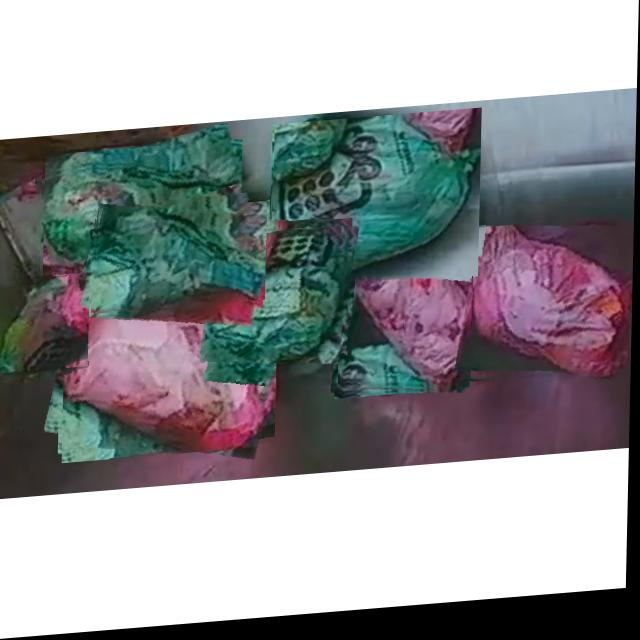general_trashbag: (273, 122, 482, 289), (42, 169, 244, 270), (207, 235, 348, 367), (97, 206, 266, 313), (0, 276, 90, 373)
other_trashbag: (65, 285, 277, 456), (474, 235, 629, 387), (344, 245, 473, 398)
